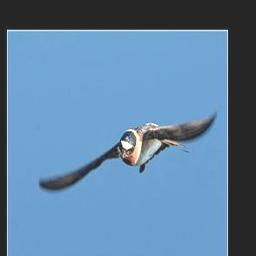Swallow: (37, 105, 216, 190)
